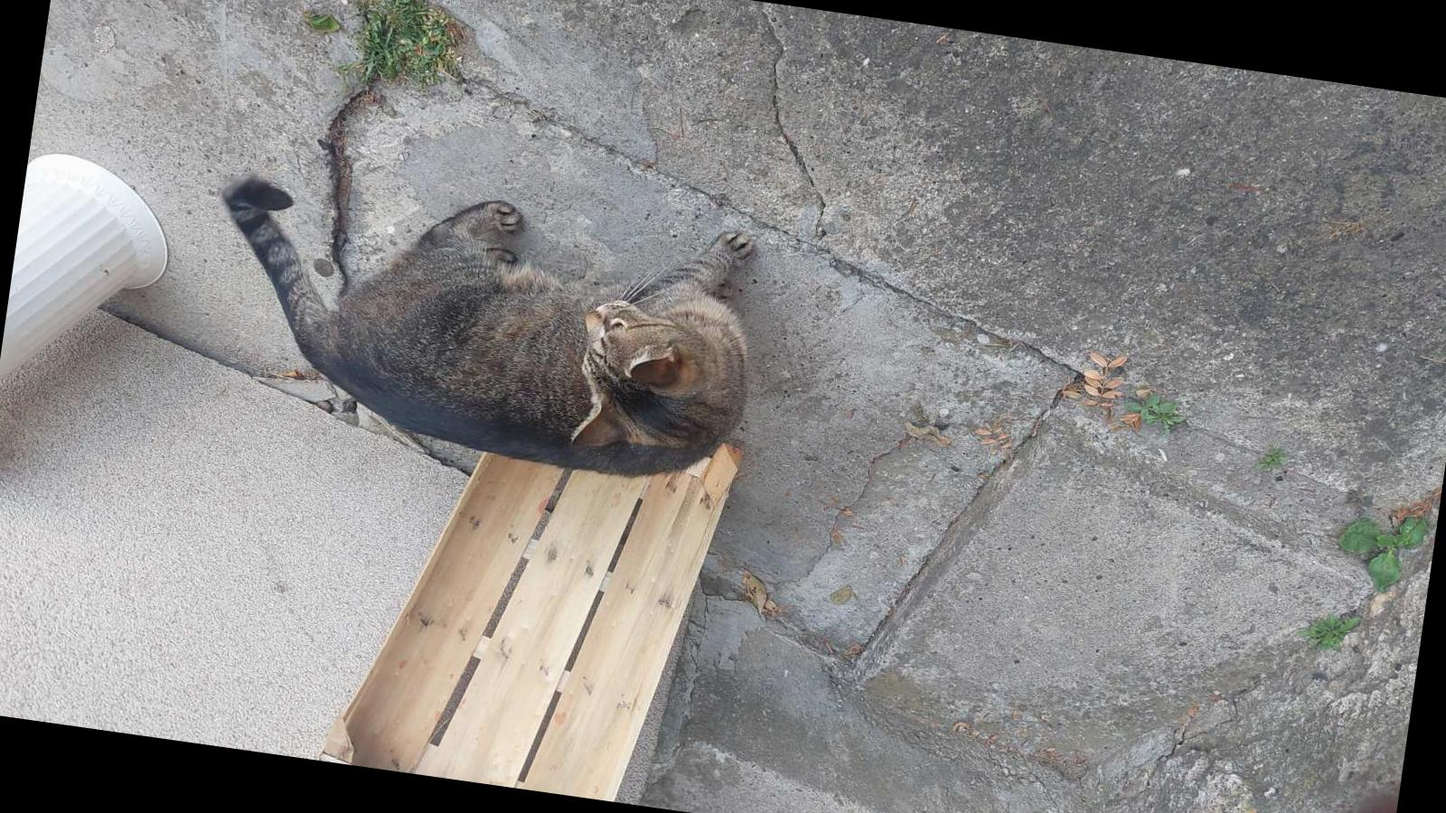macka: (195, 159, 767, 495)
